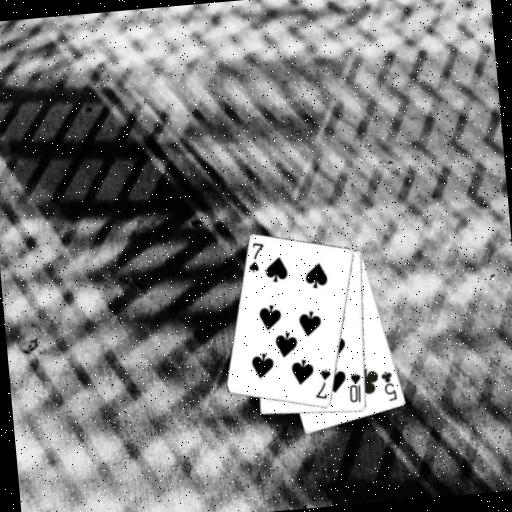10S: (345, 370, 365, 405)
5C: (378, 367, 400, 404)
7S: (311, 366, 335, 402), (244, 239, 268, 275)
